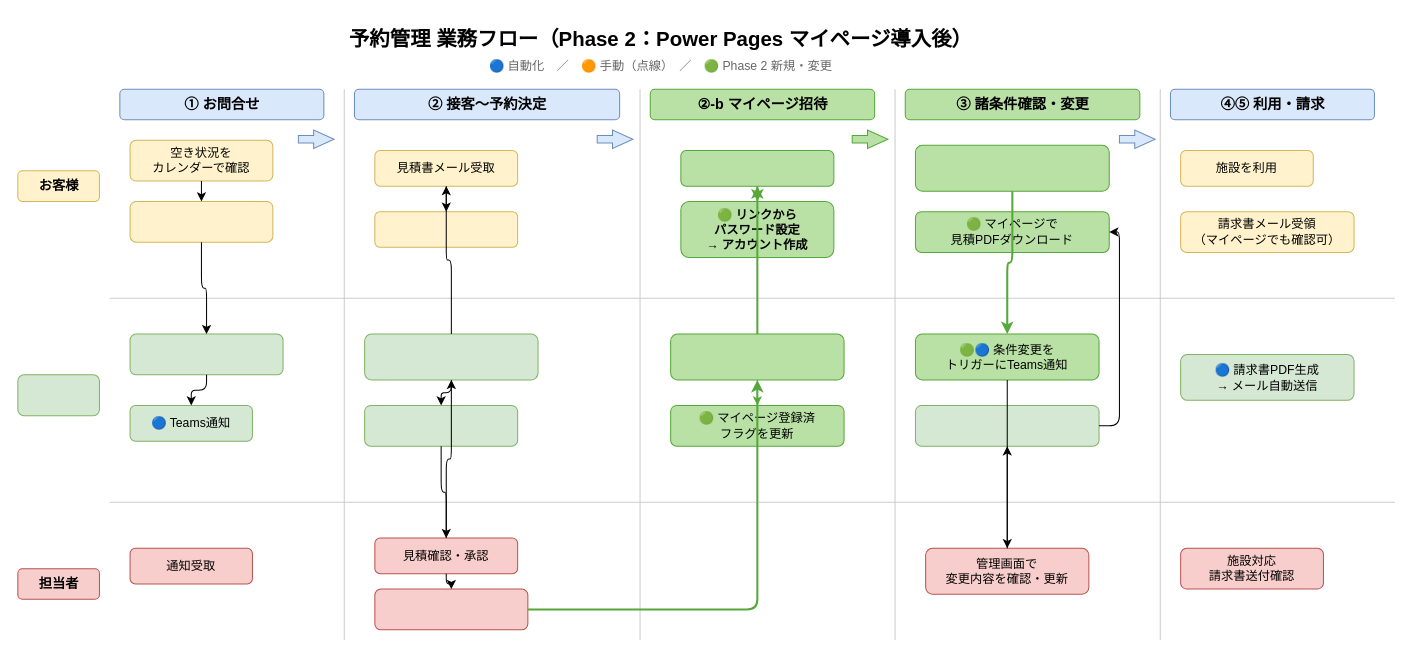
Image size: 1413x658. Some labels were removed from this diagram. The shapes that lost their labels are listed below. From the top down, each one's box as (x1, y1, x2, y2) in pixels, then its label:
(680, 149, 834, 186): 🟢 招待メール受取
(914, 144, 1109, 191): 🟢 マイページから 条件変更リクエスト送信
(129, 200, 273, 242): 問い合わせフォームに 希望条件を入力
(374, 211, 518, 247): 予約確定連絡
(129, 333, 283, 375): 🔵 Dataverseへ 自動登録
(364, 333, 538, 380): 🔵 見積PDF自動生成 → メール自動送信
(670, 333, 844, 380): 🟢🔵 招待メールを 自動送信
(17, 374, 99, 416): Power Platform
(364, 404, 518, 446): 🔵 Teams通知 承認フロー
(914, 404, 1099, 446): 🔵 更新トリガーで 見積書を自動再送信
(374, 588, 528, 630): ステータスを 「予約確定」に変更
